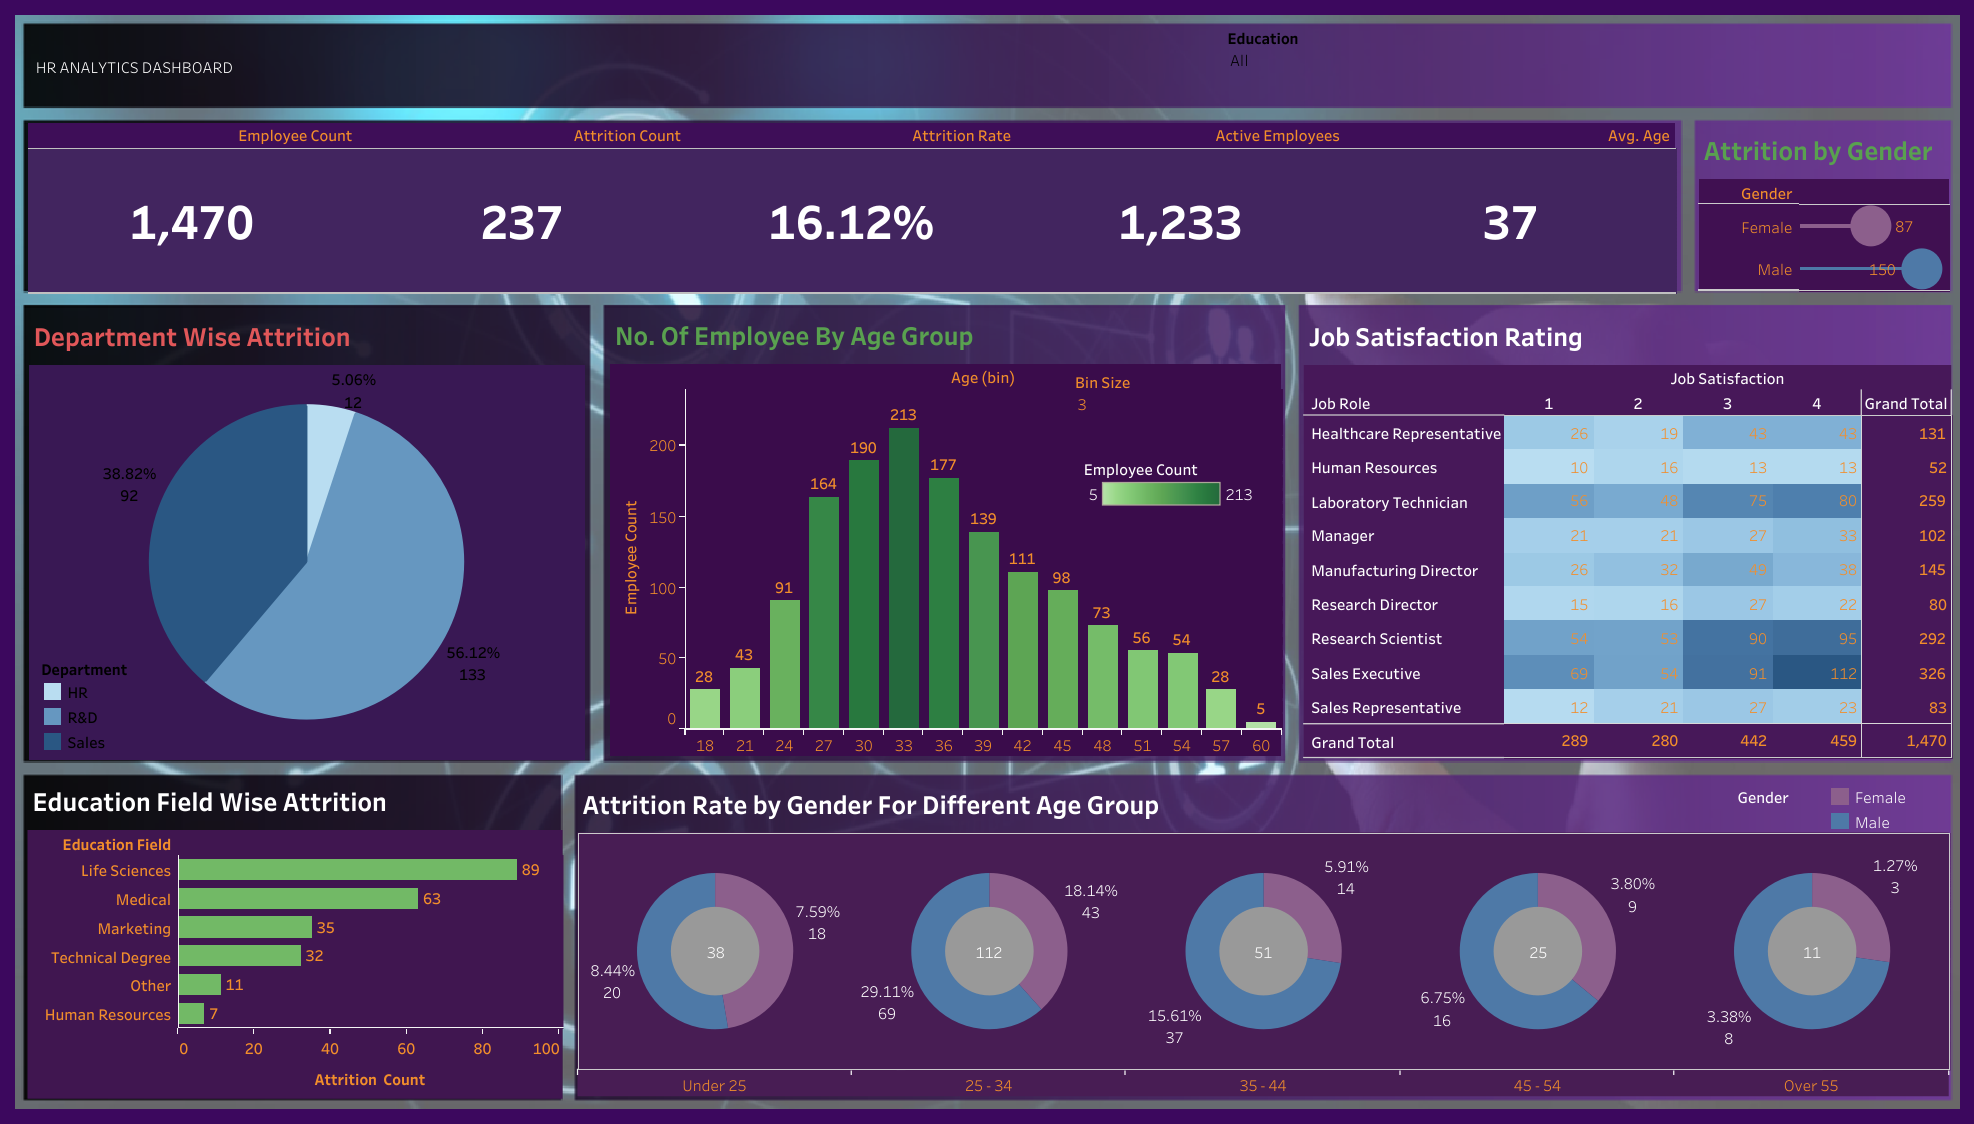

Layout of this report page (visuals, bound fields, positions):
{"tool":"tableau","page":{"name":"Dashboard 1","canvas":[1580,900],"ordinal":0},"visuals":[{"type":"image","param":"Image/HR background.pptx.png","box":[8,8,1564,884]},{"type":"filter","title":"Department Wise Attrition","param":"[federated.092vy9n0lnd62s1acef5t0npzg8q].[none:Education:nk]","box":[982,20,160,74]},{"type":"text","box":[26,23,1522,60]},{"type":"worksheet","title":"kpi","mark":"Automatic","box":[22,98,1319,137]},{"type":"worksheet","title":"Attrition by Gender","mark":"Bar","rows":["Gender"],"cols":["Calculation_15903350600945857","Calculation_15903350600945857"],"box":[1359,100,201,133]},{"type":"worksheet","title":"No. Of Employee By Age Group","mark":"Automatic","rows":["Employee Count"],"cols":["Age (bin)"],"box":[488,248,537,357]},{"type":"worksheet","title":"Department Wise Attrition","mark":"Pie","box":[23,249,444,358]},{"type":"worksheet","title":"Job Satisfaction Rating","mark":"Square","rows":["Job Role"],"cols":["Job Satisfaction"],"box":[1043,249,519,358]},{"type":"parameter","param":"[Parameters].[Parameter 1]","box":[860,295,160,68]},{"type":"legend","title":"No. Of Employee By Age Group","param":"[federated.092vy9n0lnd62s1acef5t0npzg8q].[sum:Employee Count:qk]","box":[867,362,140,80]},{"type":"legend","title":"Department Wise Attrition","param":"[federated.092vy9n0lnd62s1acef5t0npzg8q].[none:Department:nk]","box":[32,524,140,80]},{"type":"worksheet","title":"Education Field Wise Attrition","mark":"Automatic","rows":["Education Field"],"cols":["Calculation_15903350600945857"],"box":[22,621,428,258]},{"type":"worksheet","title":"Attrition Rate by Gender For Different Age Group","mark":"Pie","rows":["Calculation_1055545676771477","Calculation_1055545676771477"],"cols":["CF_age band"],"box":[462,623,1098,255]},{"type":"legend","title":"Attrition Rate by Gender For Different Age Group","param":"[federated.092vy9n0lnd62s1acef5t0npzg8q].[none:Gender:nk]","box":[1390,627,167,36]}]}

Visuals, with their boxes in screenshot pixels (x1, y1, x2, y2), scaled from the page's 1580x900 canvas onto the 1974x1124 screenshot:
image: select_region(10, 10, 1964, 1114)
"Department Wise Attrition" filter: select_region(1227, 25, 1427, 117)
text: select_region(32, 29, 1934, 104)
"kpi" worksheet: select_region(27, 122, 1675, 293)
"Attrition by Gender" worksheet (Bar marks): select_region(1698, 125, 1949, 291)
"No. Of Employee By Age Group" worksheet: select_region(610, 310, 1281, 756)
"Department Wise Attrition" worksheet (Pie marks): select_region(29, 311, 583, 758)
"Job Satisfaction Rating" worksheet (Square marks): select_region(1303, 311, 1952, 758)
parameter: select_region(1074, 368, 1274, 453)
"No. Of Employee By Age Group" legend: select_region(1083, 452, 1258, 552)
"Department Wise Attrition" legend: select_region(40, 654, 215, 754)
"Education Field Wise Attrition" worksheet: select_region(27, 776, 562, 1098)
"Attrition Rate by Gender For Different Age Group" worksheet (Pie marks): select_region(577, 778, 1949, 1097)
"Attrition Rate by Gender For Different Age Group" legend: select_region(1737, 783, 1945, 828)
